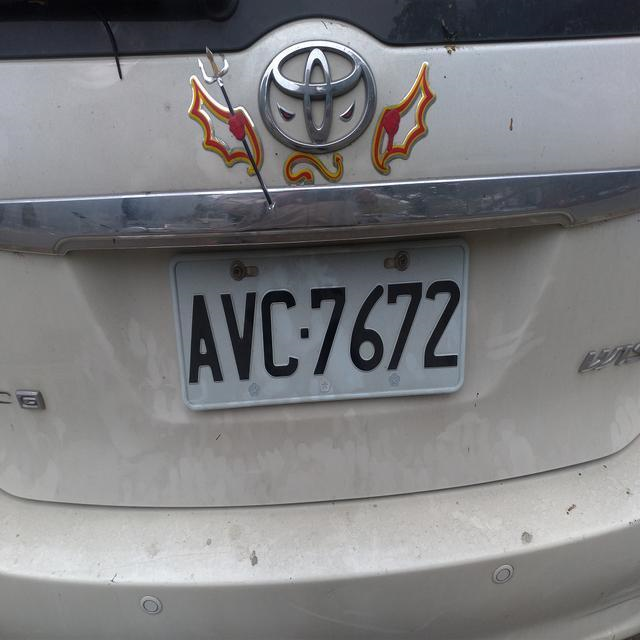license: (176, 265, 466, 388)
